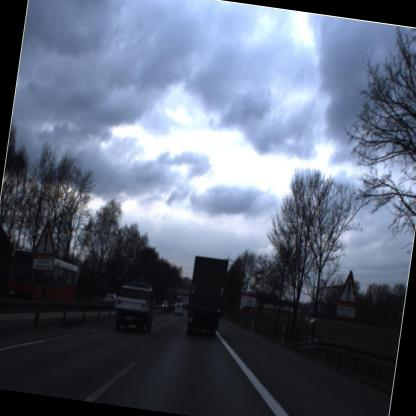danger: (332, 264, 366, 312)
